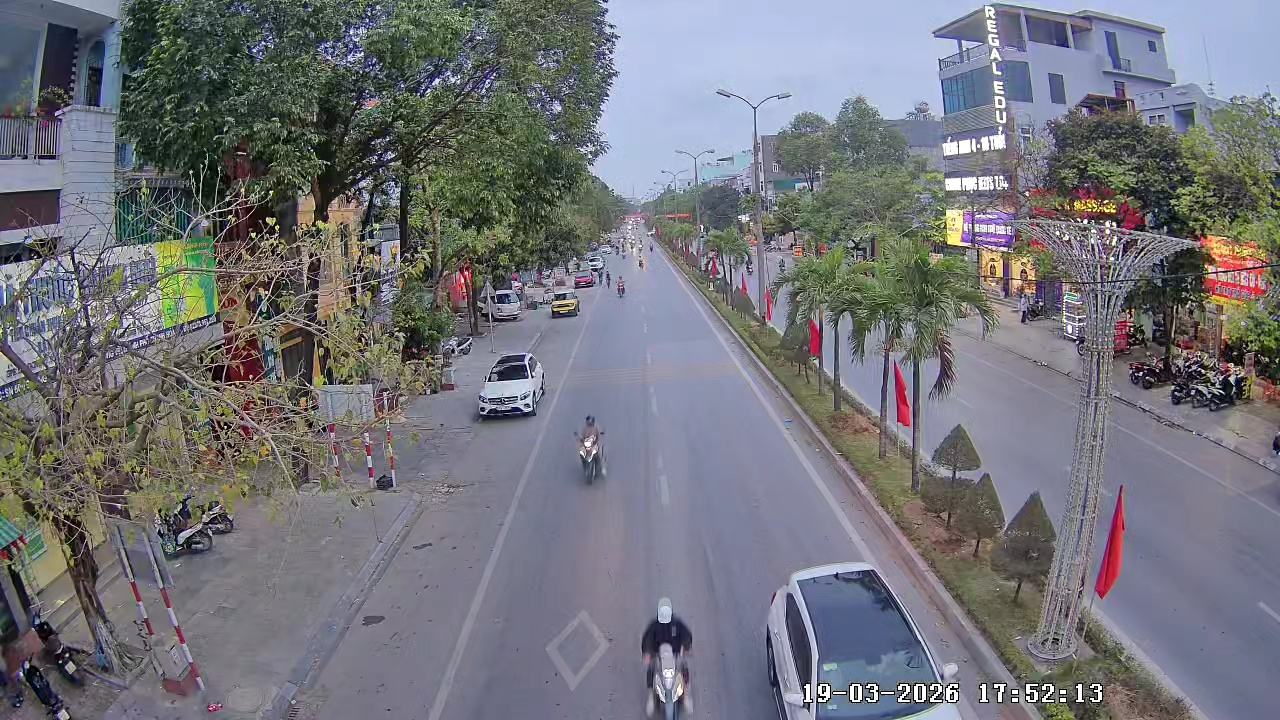car: (760, 559, 962, 719), (475, 351, 547, 418), (550, 288, 580, 317), (499, 291, 524, 320)
motorbike: (637, 596, 697, 719), (571, 411, 610, 484), (614, 272, 627, 298)
